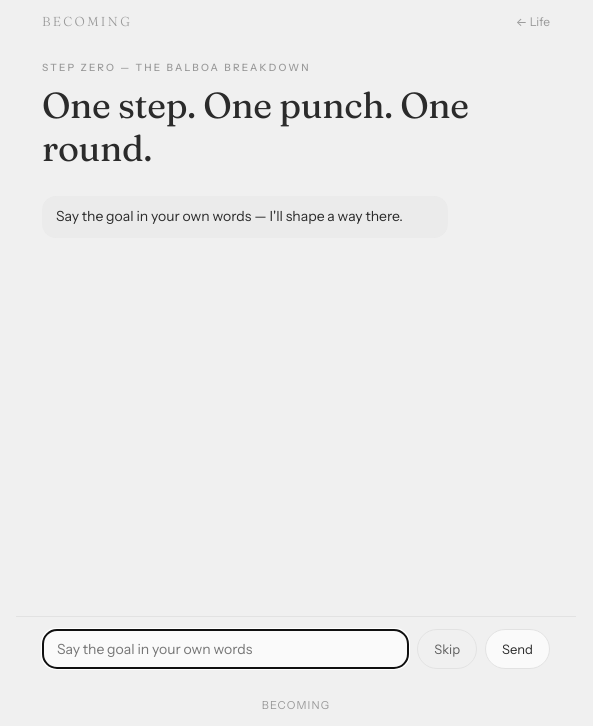
Test: Onboard send › advances from ambition to type after user submits
Type "Wake at 6:00 AM" into the field with placeholder "Say the goal in your own words" at (226, 649), box [42,629,409,669]
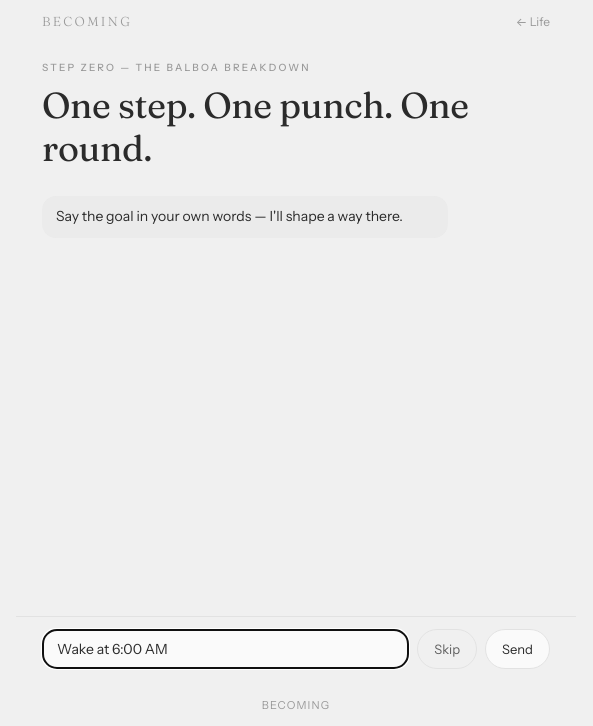
Click the button "Send" at (518, 649), box [485,629,550,669]
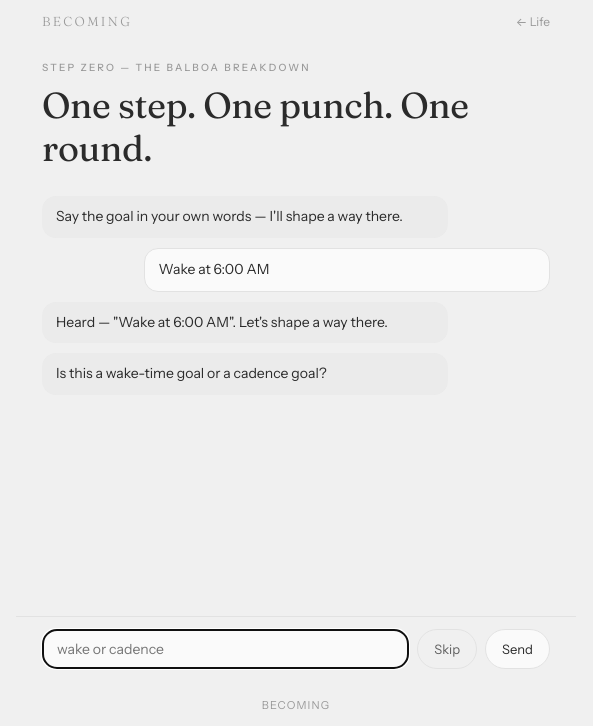
Expected: the text "Heard — \"Wake at 6:00 AM\". Let's shape a way there." is shown, [42,302,448,344]
Expected: the text "Wake at 6:00 AM" is shown, [144,248,550,292]
